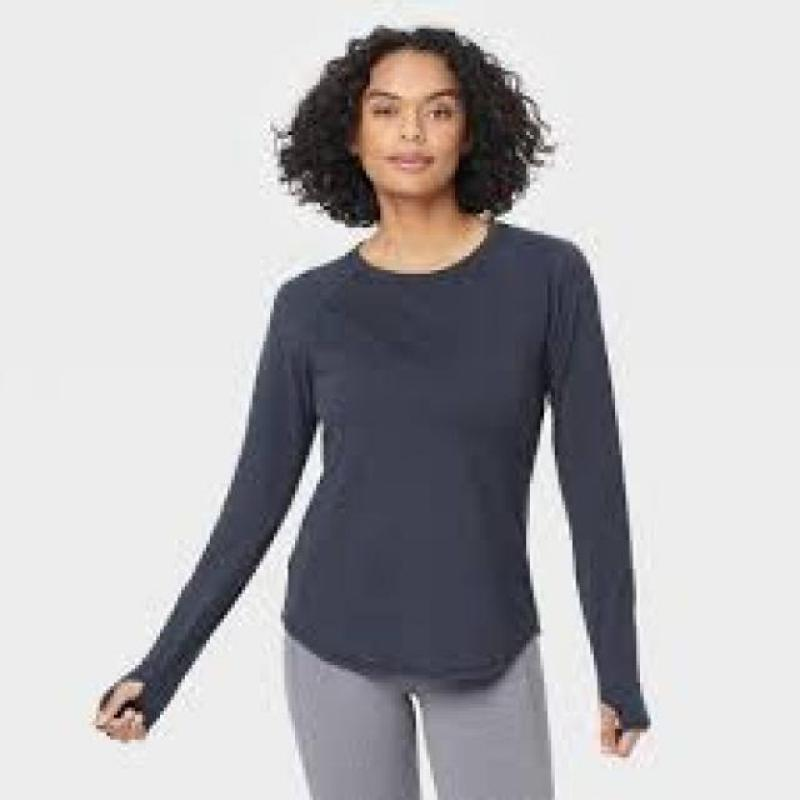long sleeve shirt: (95, 224, 651, 730)
trousers: (285, 632, 558, 800)
